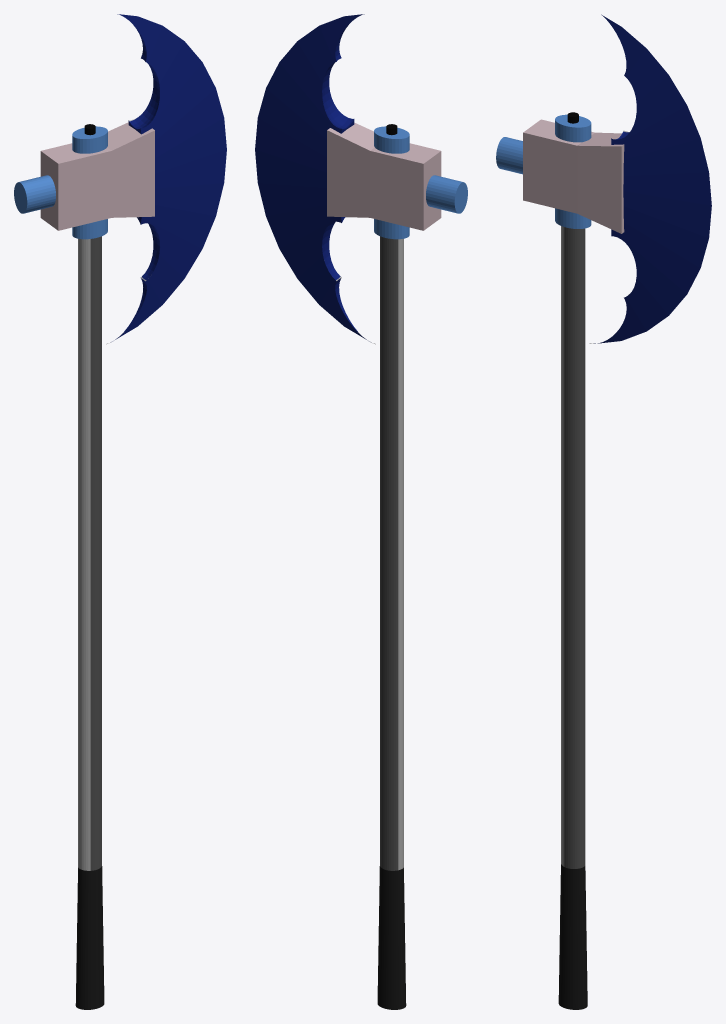
Rendered from bardicheWithMaterial.obj.
The picture shows the model from 3 angles, left to right: view 1: azimuth 30°, elevation 25°; view 2: azimuth 150°, elevation 25°; view 3: azimuth 330°, elevation 25°; orthographic projection.
Parts seen in each view (by area): view 1: 円錐; view 2: 円錐; view 3: 円錐.
Boxes of the visible parts, box(x1,y1,x2,y2) form: 円錐: box(14, 14, 226, 1009); 円錐: box(255, 14, 467, 1009); 円錐: box(496, 14, 711, 1009).
Bounding box in the file's own units: 3.3 × 15.03 × 0.4917.
